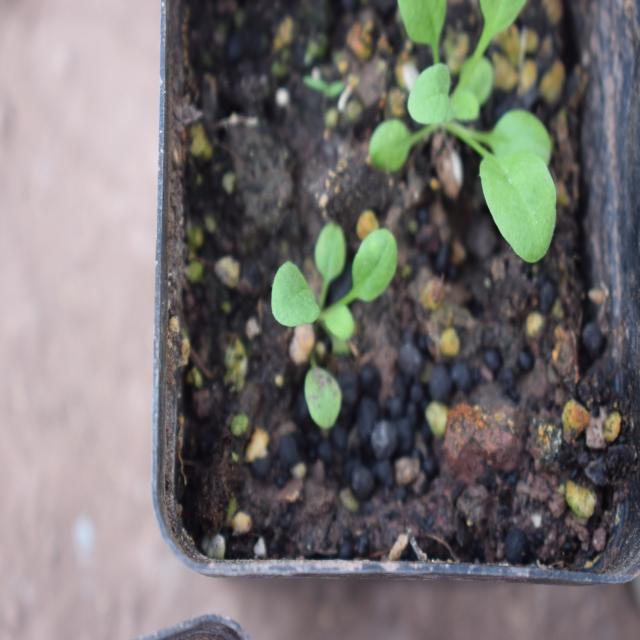Shepherd_Purse: (376, 18, 566, 268), (269, 211, 422, 448)
